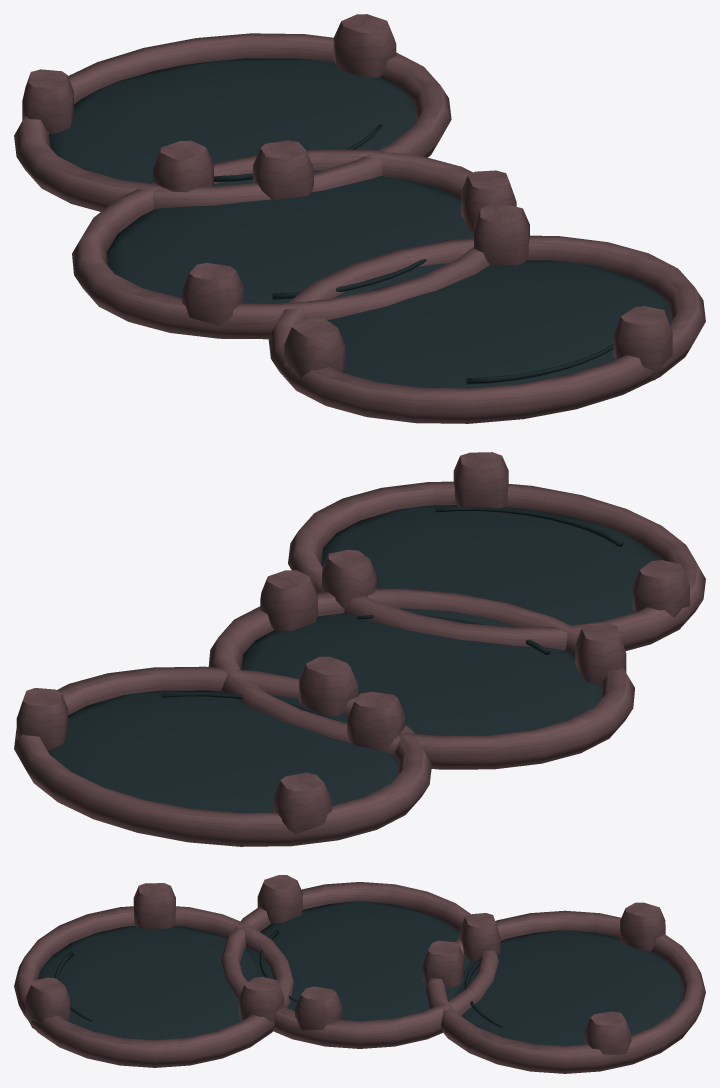
The model's file is PilotTar_1.fbx.
3 renders of one model, top to bottom at view 1: azimuth 30°, elevation 25°; view 2: azimuth 150°, elevation 25°; view 3: azimuth 270°, elevation 25°, orthographic. The views are drawn at different scales.
Visible parts, largest first — view 1: PilotTar_1__Geometry, PilotTar_1__Water; view 2: PilotTar_1__Geometry, PilotTar_1__Water; view 3: PilotTar_1__Water, PilotTar_1__Geometry.
Part boxes in pixels (bbox=[...]): PilotTar_1__Geometry: bbox=[14, 14, 705, 423]; PilotTar_1__Water: bbox=[49, 58, 670, 388]; PilotTar_1__Geometry: bbox=[14, 452, 705, 846]; PilotTar_1__Water: bbox=[47, 505, 661, 812]; PilotTar_1__Water: bbox=[38, 901, 683, 1046]; PilotTar_1__Geometry: bbox=[14, 875, 705, 1073].
Bounding box in the file's own units: 1.77 × 0.208 × 2.94.
